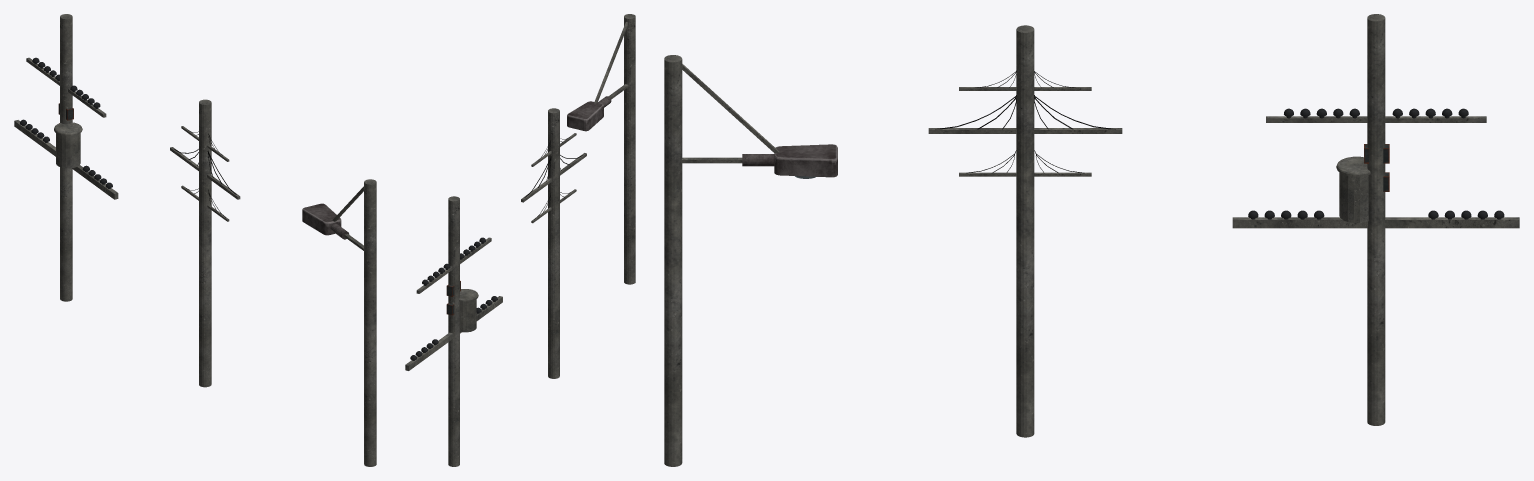
File: Electric Pillars.fbx
The picture shows the model from 3 angles, left to right: view 1: azimuth 30°, elevation 25°; view 2: azimuth 150°, elevation 25°; view 3: azimuth 270°, elevation 25°; orthographic projection. The views are drawn at different scales.
Parts seen in each view (by area): view 1: Cylinder.014, Cylinder.008, Cylinder.012, Cylinder.013, Cube.034, Cube.028, Sphere.002, Sphere.003, Cube.027; view 2: Cylinder.008, Cylinder.014, Cylinder.012, Cube.034, Cylinder.013, Cube.028, Sphere.002, Cube.027, Cube.033, Sphere.003, Cube.024; view 3: Cylinder.008, Cylinder.014, Cylinder.012, Cube.028, Cube.034, Cylinder.013, Cube.027, Cube.024.
Boxes of the visible parts, x1=… form: Cylinder.014: x1=364, y1=179, x2=376, y2=466; Cylinder.008: x1=199, y1=99, x2=211, y2=387; Cylinder.012: x1=60, y1=14, x2=72, y2=301; Cylinder.013: x1=54, y1=122, x2=82, y2=168; Cube.034: x1=302, y1=203, x2=349, y2=239; Cube.028: x1=14, y1=120, x2=118, y2=199; Sphere.002: x1=32, y1=57, x2=100, y2=108; Sphere.003: x1=20, y1=119, x2=112, y2=188; Cube.027: x1=26, y1=57, x2=106, y2=117; Cylinder.008: x1=548, y1=108, x2=559, y2=378; Cylinder.014: x1=624, y1=14, x2=635, y2=284; Cylinder.012: x1=448, y1=196, x2=459, y2=466; Cube.034: x1=567, y1=96, x2=611, y2=131; Cylinder.013: x1=459, y1=289, x2=478, y2=332; Cube.028: x1=405, y1=296, x2=502, y2=370; Sphere.002: x1=422, y1=237, x2=485, y2=285; Cube.027: x1=416, y1=237, x2=491, y2=293; Cube.033: x1=594, y1=22, x2=627, y2=103; Sphere.003: x1=410, y1=296, x2=497, y2=360; Cube.024: x1=521, y1=153, x2=586, y2=202; Cylinder.008: x1=1016, y1=25, x2=1034, y2=437; Cylinder.014: x1=664, y1=55, x2=682, y2=466; Cylinder.012: x1=1367, y1=14, x2=1385, y2=425; Cube.028: x1=1232, y1=217, x2=1519, y2=228; Cube.034: x1=742, y1=144, x2=837, y2=178; Cylinder.013: x1=1336, y1=156, x2=1370, y2=222; Cube.027: x1=1266, y1=116, x2=1486, y2=122; Cube.024: x1=928, y1=128, x2=1122, y2=133.
Bounding box in the file's own units: 95.87 × 300 × 574.
